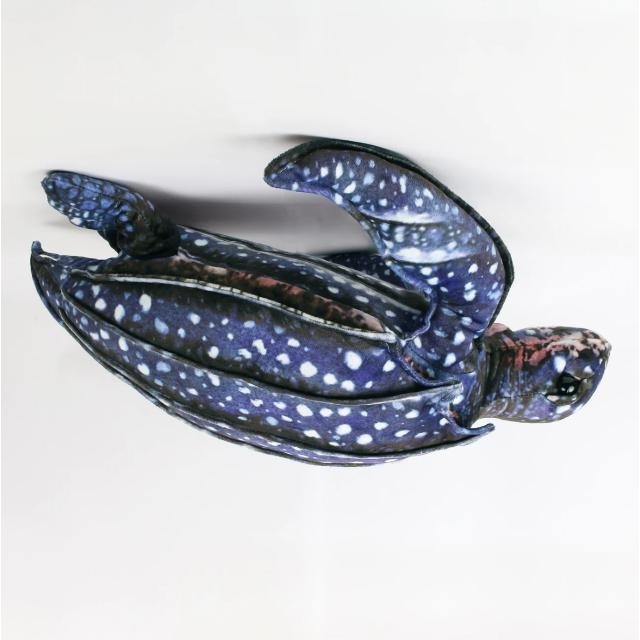turtle: (29, 136, 613, 468)
